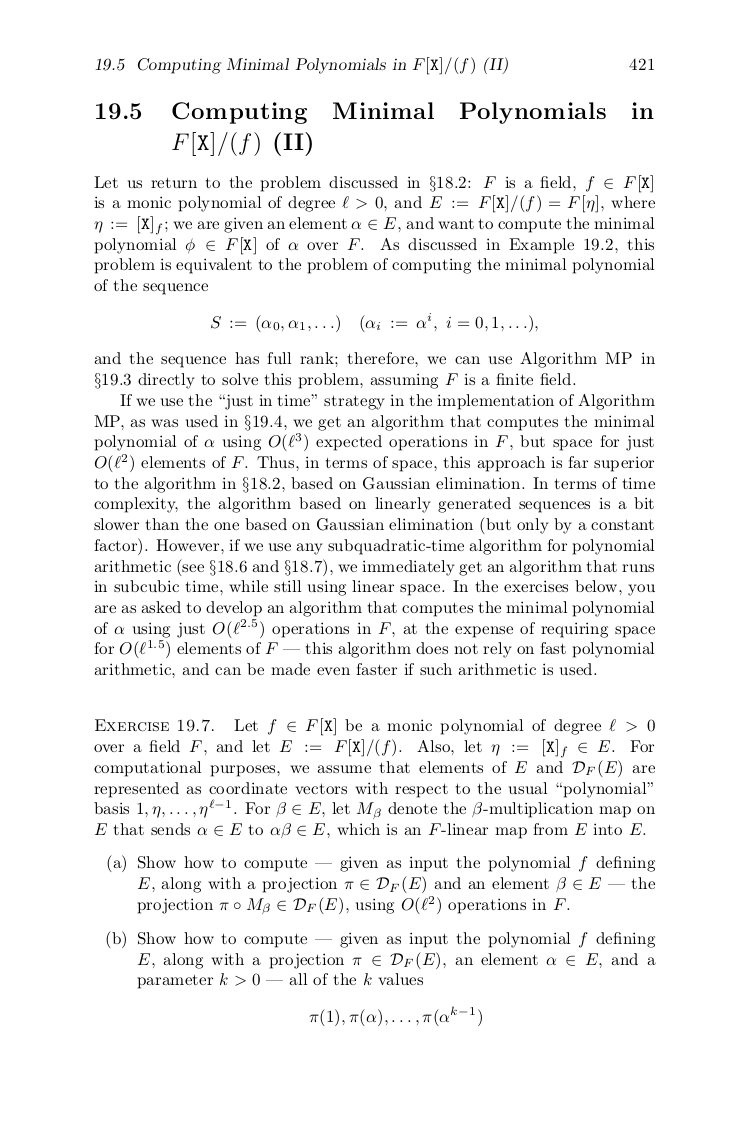formula: (211, 314, 537, 333), (309, 1005, 481, 1027)
